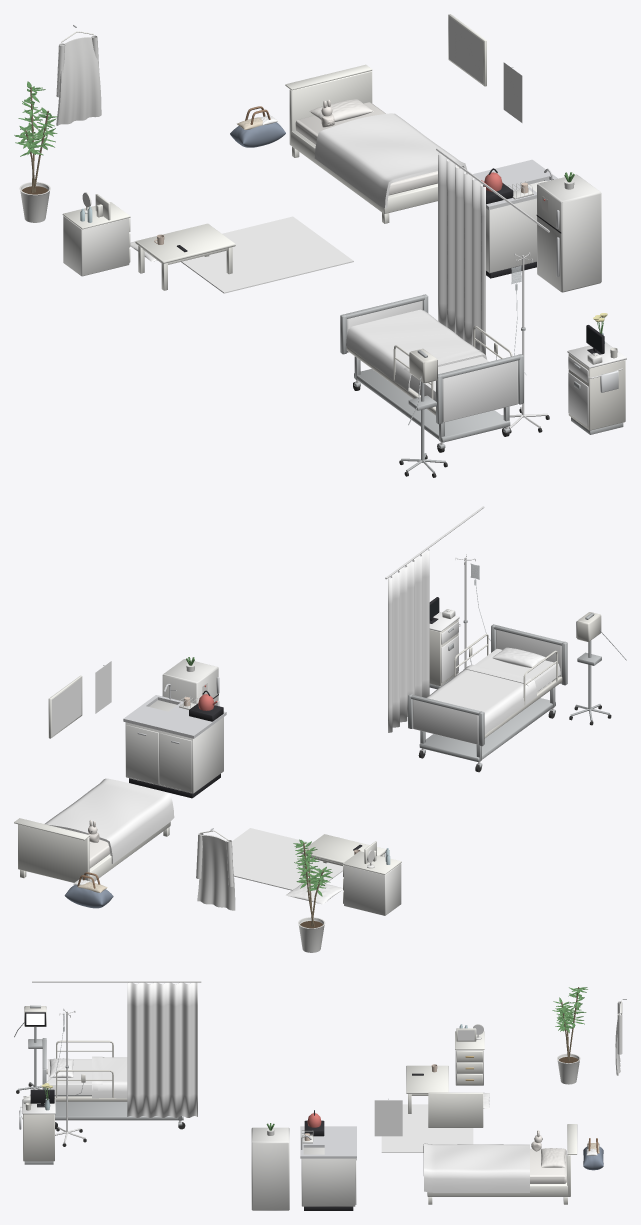
Rendered from MizunoApart_Interior.fbx.
3 renders of one model, top to bottom at view 1: azimuth 30°, elevation 25°; view 2: azimuth 150°, elevation 25°; view 3: azimuth 270°, elevation 25°, orthographic. The views are drawn at different scales.
Parts seen in each view (by area): view 1: MizunoApart_Interior; view 2: MizunoApart_Interior; view 3: MizunoApart_Interior.
Boxes of the visible parts, x1,y1,x2,y2 form: MizunoApart_Interior: (14, 14, 626, 477); MizunoApart_Interior: (14, 506, 626, 952); MizunoApart_Interior: (14, 981, 626, 1210).
Bounding box in the file's own units: 4.78 × 2.47 × 8.68.
